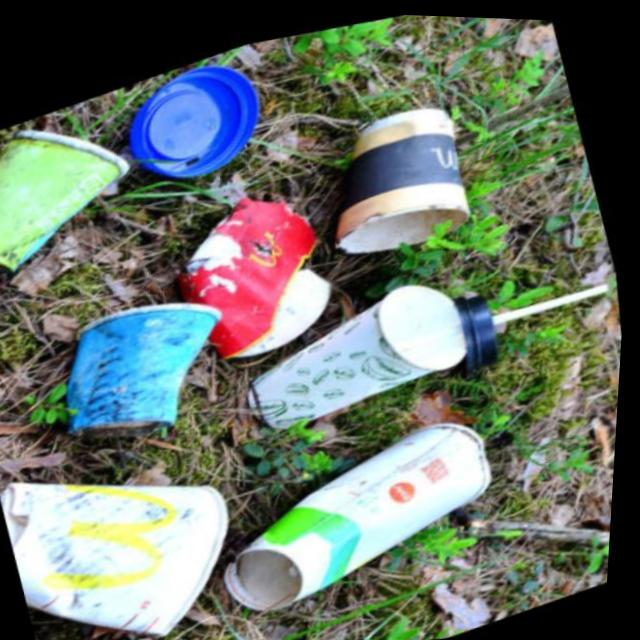leaf: (200, 379, 532, 633), (232, 255, 515, 447), (294, 74, 498, 284), (0, 71, 186, 299), (56, 250, 258, 455), (111, 25, 306, 202)
trash: (0, 400, 283, 640), (161, 168, 369, 377)
